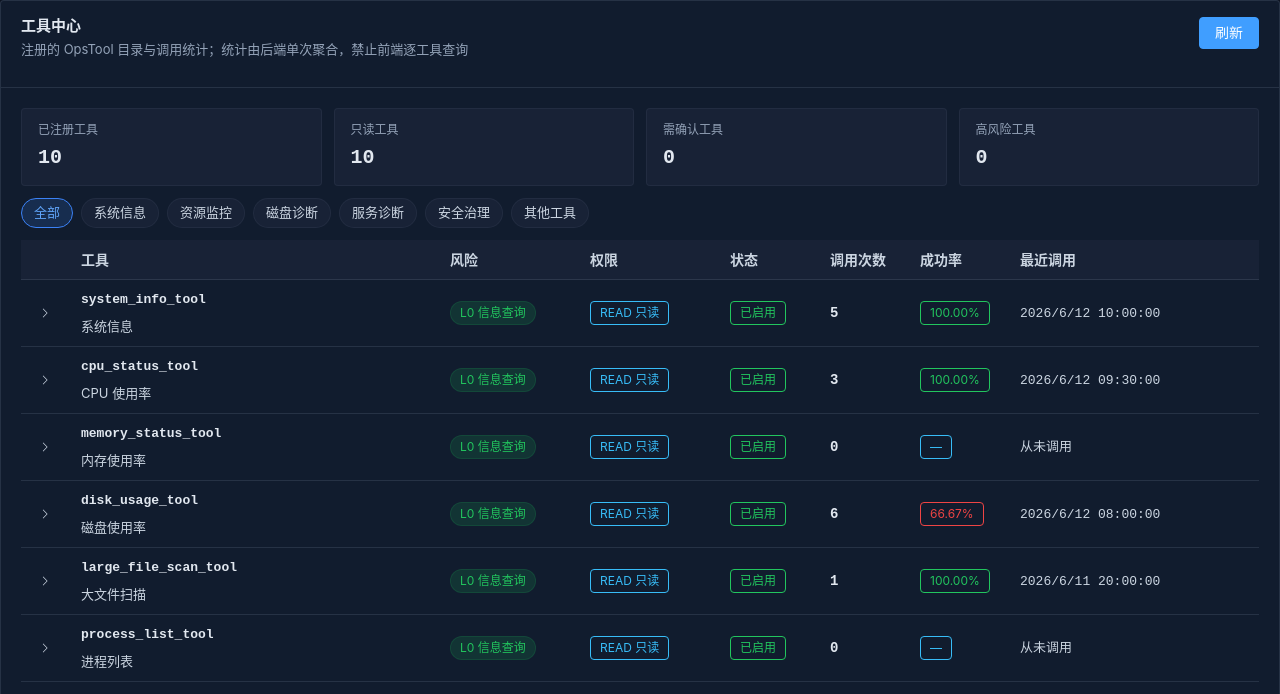
Scenario: Tool Center — expandable schema panel › renders the inputSchema in the expandable panel
Click the icon next to "system_info_tool".
click(45, 313)  # box [39, 307, 51, 319]
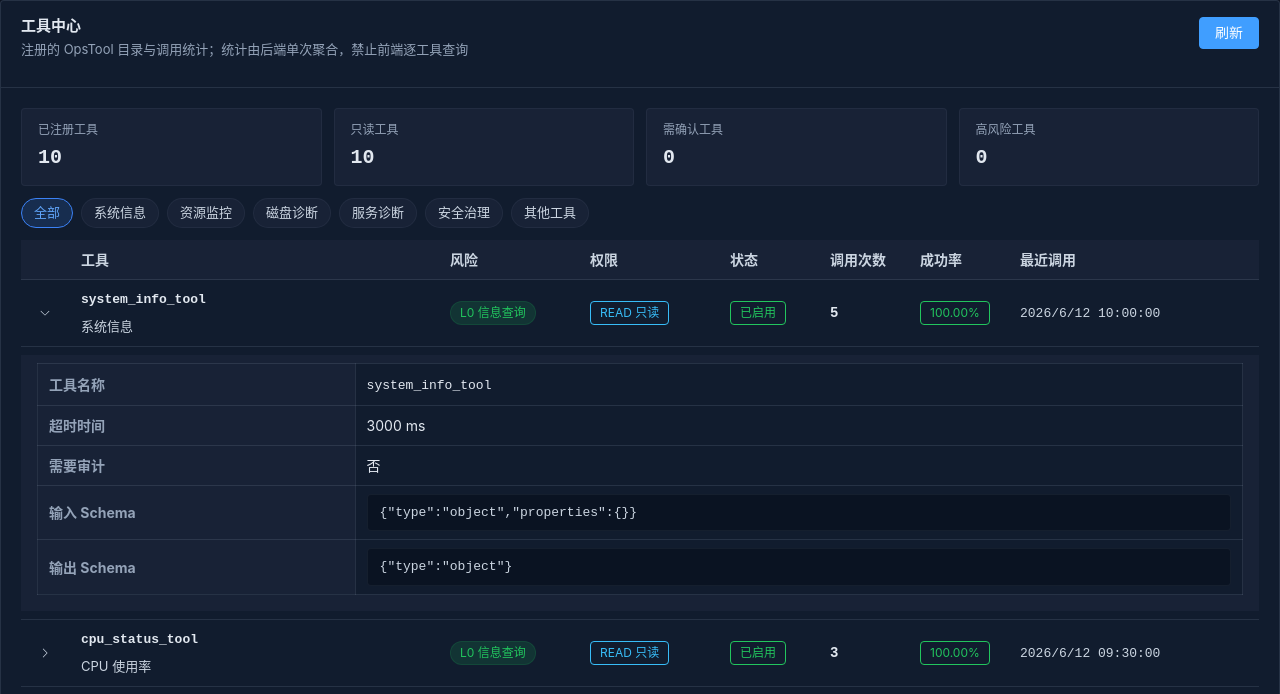
Expected: the element with test id "tool-schema-system_info_tool" is shown, [21, 355, 1259, 611]
Expected: the element with test id "tool-schema-system_info_tool" shows "object", [380, 505, 637, 520]
